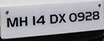character: (6, 16, 19, 28), (19, 15, 28, 27), (36, 14, 45, 25), (49, 13, 58, 24), (84, 10, 93, 21), (68, 12, 77, 22), (58, 12, 66, 23), (77, 11, 85, 22), (92, 9, 100, 20), (32, 15, 36, 25)
